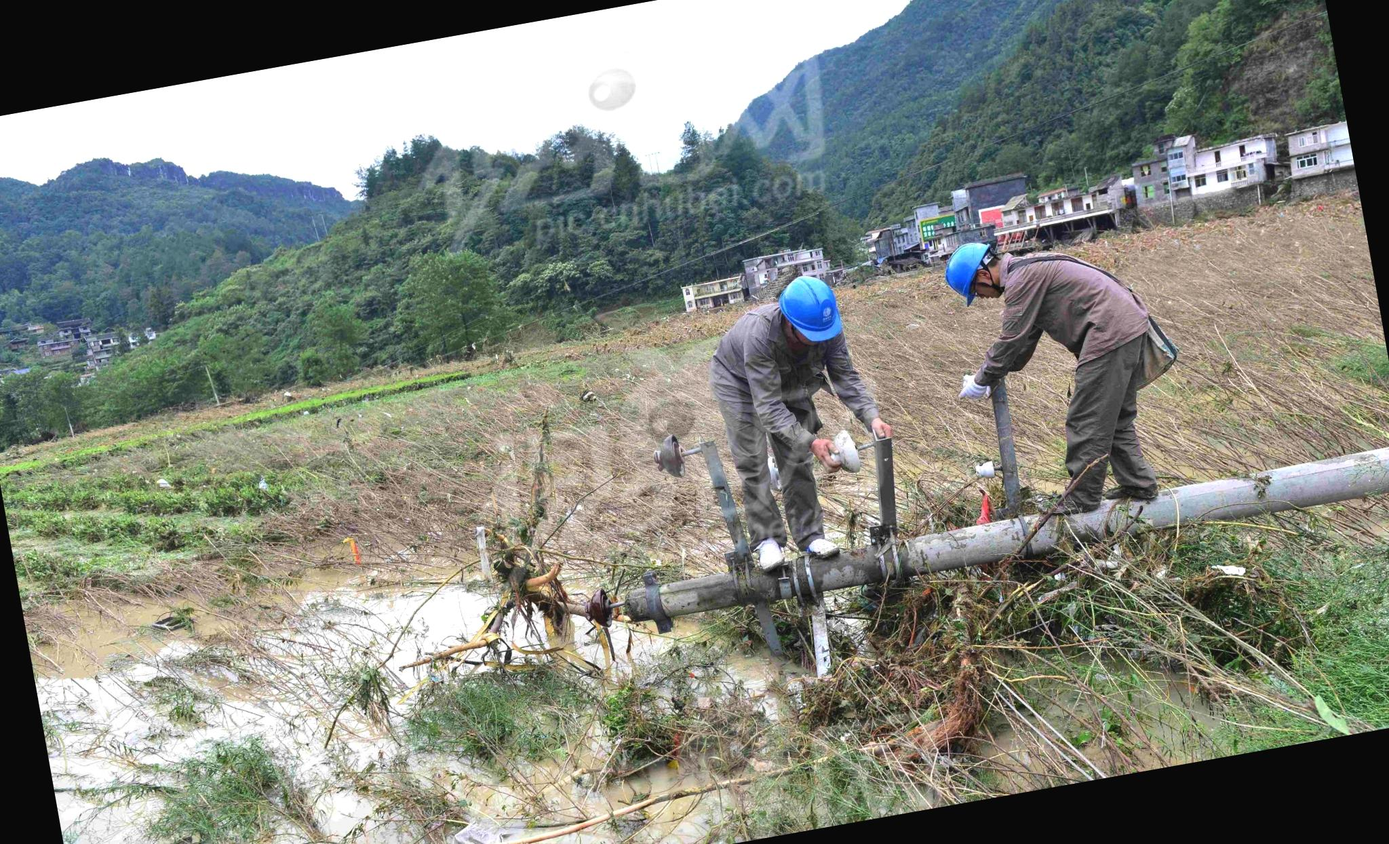helmet: (779, 263, 850, 349), (943, 233, 998, 305)
no_vest: (1007, 244, 1145, 372)
person: (939, 209, 1176, 524), (692, 252, 895, 582)
